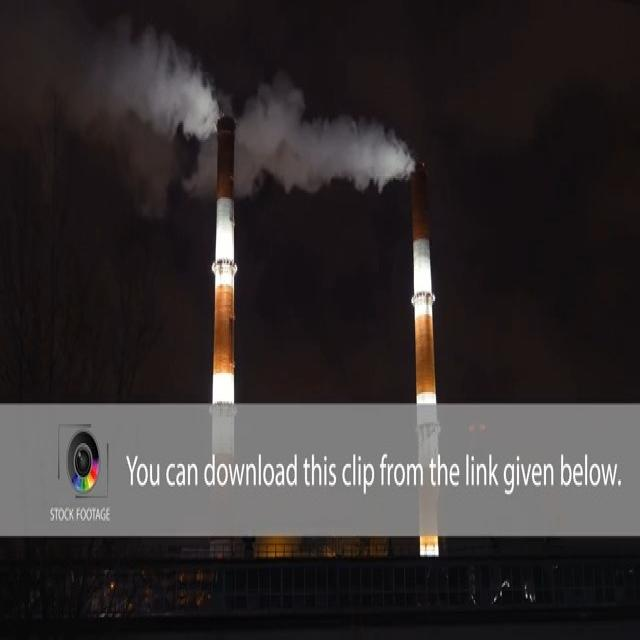smoke: (0, 13, 228, 212), (236, 80, 414, 193)
